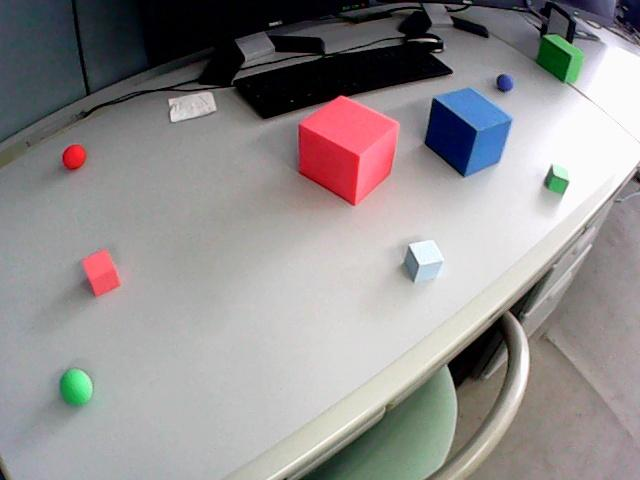blue_block: (425, 88, 511, 175), (405, 240, 443, 281)
red_block: (299, 96, 398, 204), (82, 249, 120, 296)
